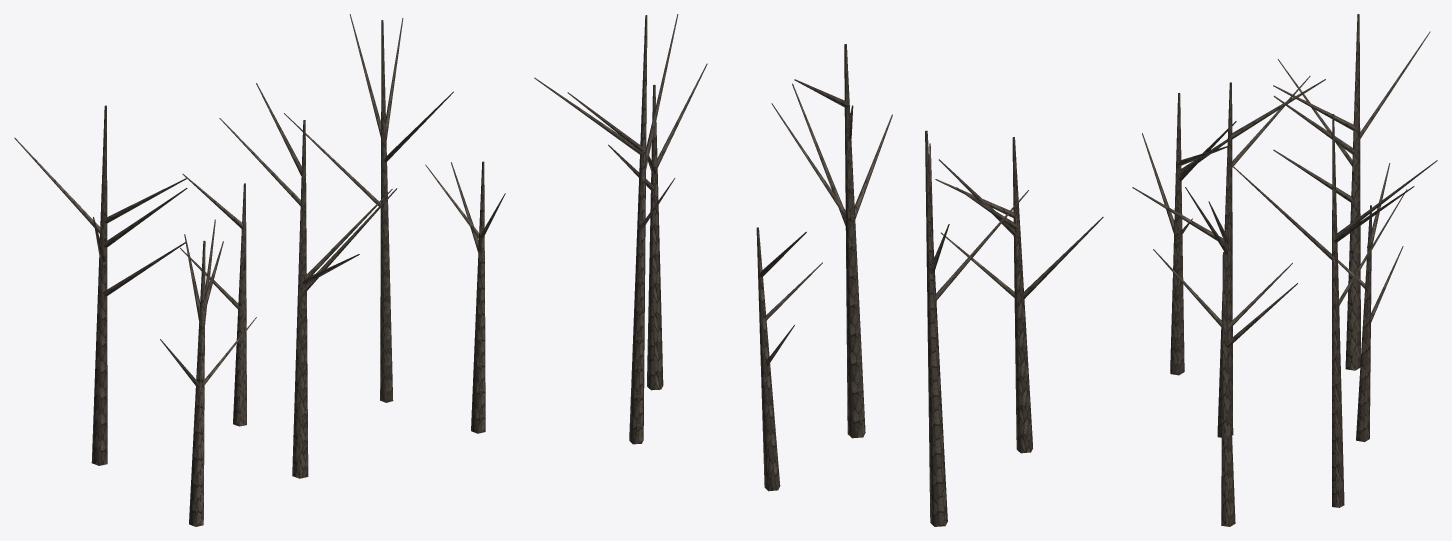
File: S7U_FarTreeRow_20m_C.fbx
The picture shows the model from 3 angles, left to right: view 1: azimuth 30°, elevation 25°; view 2: azimuth 150°, elevation 25°; view 3: azimuth 270°, elevation 25°; orthographic projection. The views are drawn at different scales.
Parts seen in each view (by area): view 1: S7U_FarTreeRow_20m_C; view 2: S7U_FarTreeRow_20m_C; view 3: S7U_FarTreeRow_20m_C.
Part boxes in pixels (x1=…): S7U_FarTreeRow_20m_C: x1=14, y1=14, x2=505, y2=526; S7U_FarTreeRow_20m_C: x1=534, y1=14, x2=1103, y2=526; S7U_FarTreeRow_20m_C: x1=1132, y1=14, x2=1437, y2=526.
Bounding box in the file's own units: 15.39 × 14.79 × 10.55.
